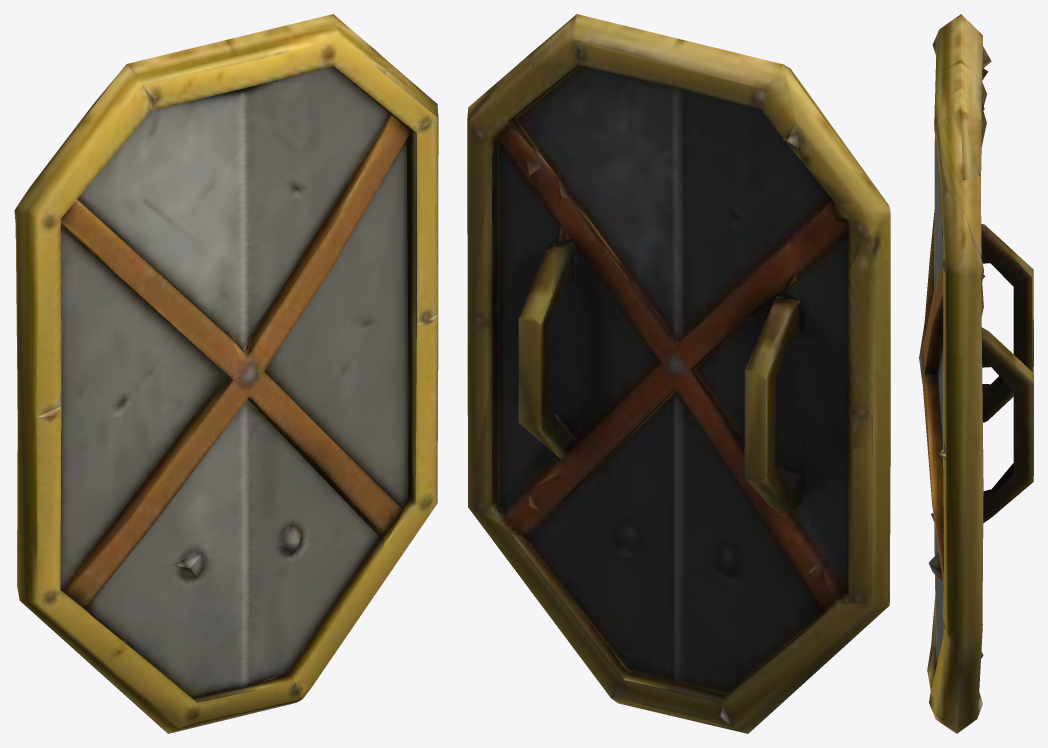
Rendered from wpn_shield2.glb.
3 views of the same model, side by side, from view 1: azimuth 30°, elevation 25°; view 2: azimuth 150°, elevation 25°; view 3: azimuth 270°, elevation 25° (orthographic). The views are drawn at different scales.
Size of the model in its own units: 1.24 by 1.91 by 0.3103.
Materials: 1 (1 with a texture image).
